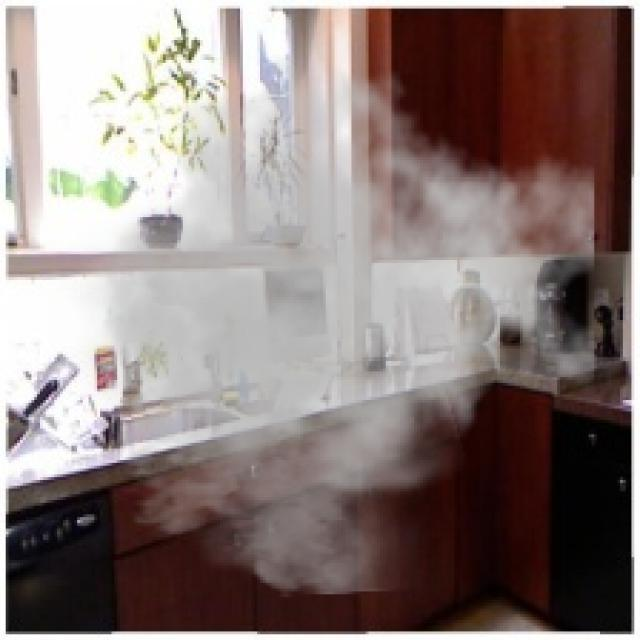Smoke: (51, 52, 594, 598)
